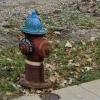a fire hydrant: (19, 8, 50, 65)
